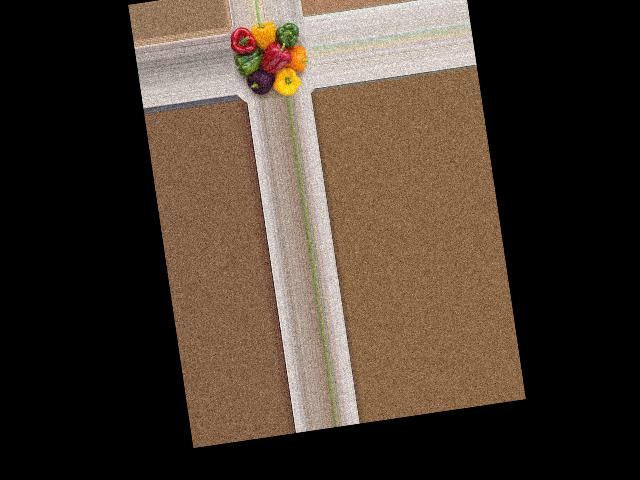bell_pepper: (238, 62, 277, 96)
